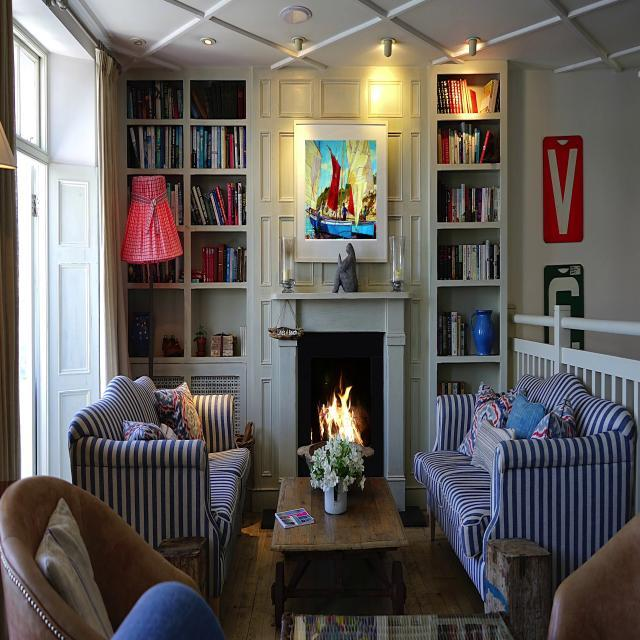Fire: (316, 375, 364, 453)
